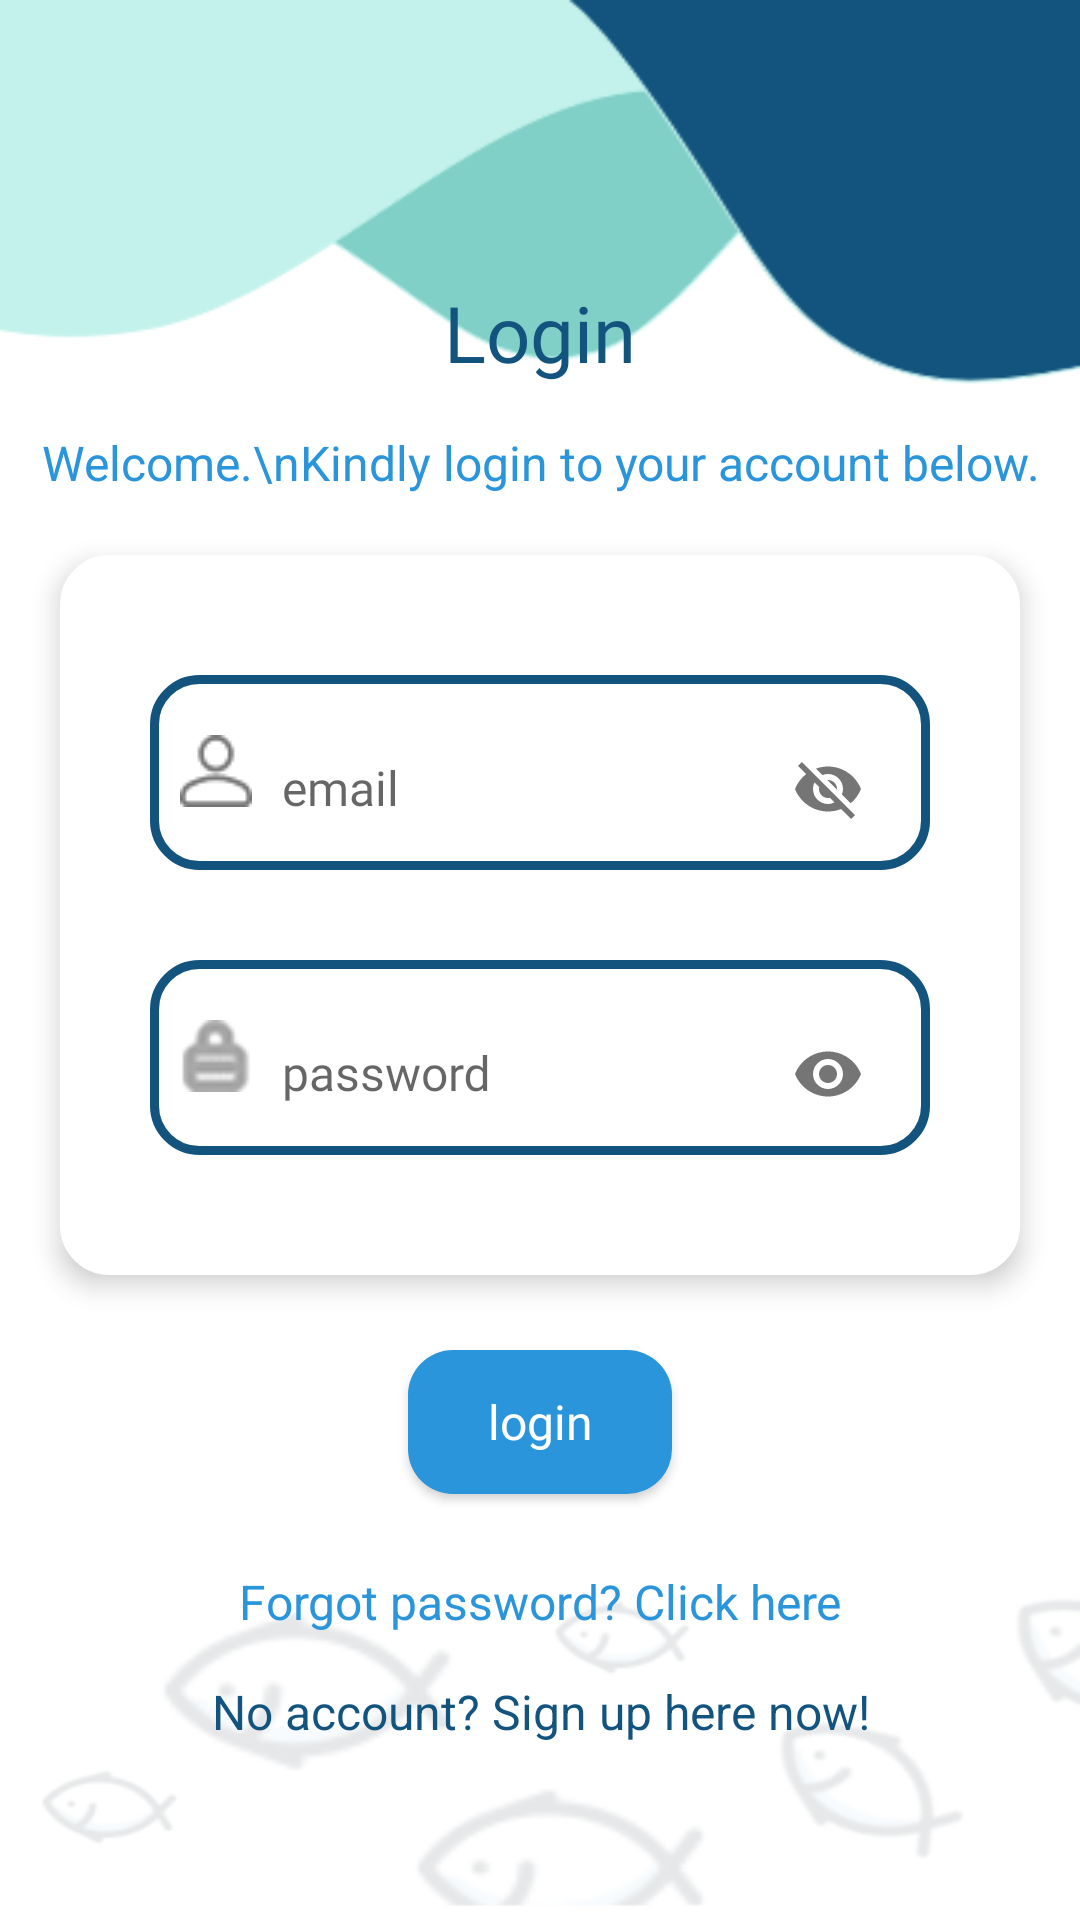

Icon click points for this 1080px×1920px phone screenshot, format point (x, y):
lock: point (216, 1056)
username: point (216, 771)
